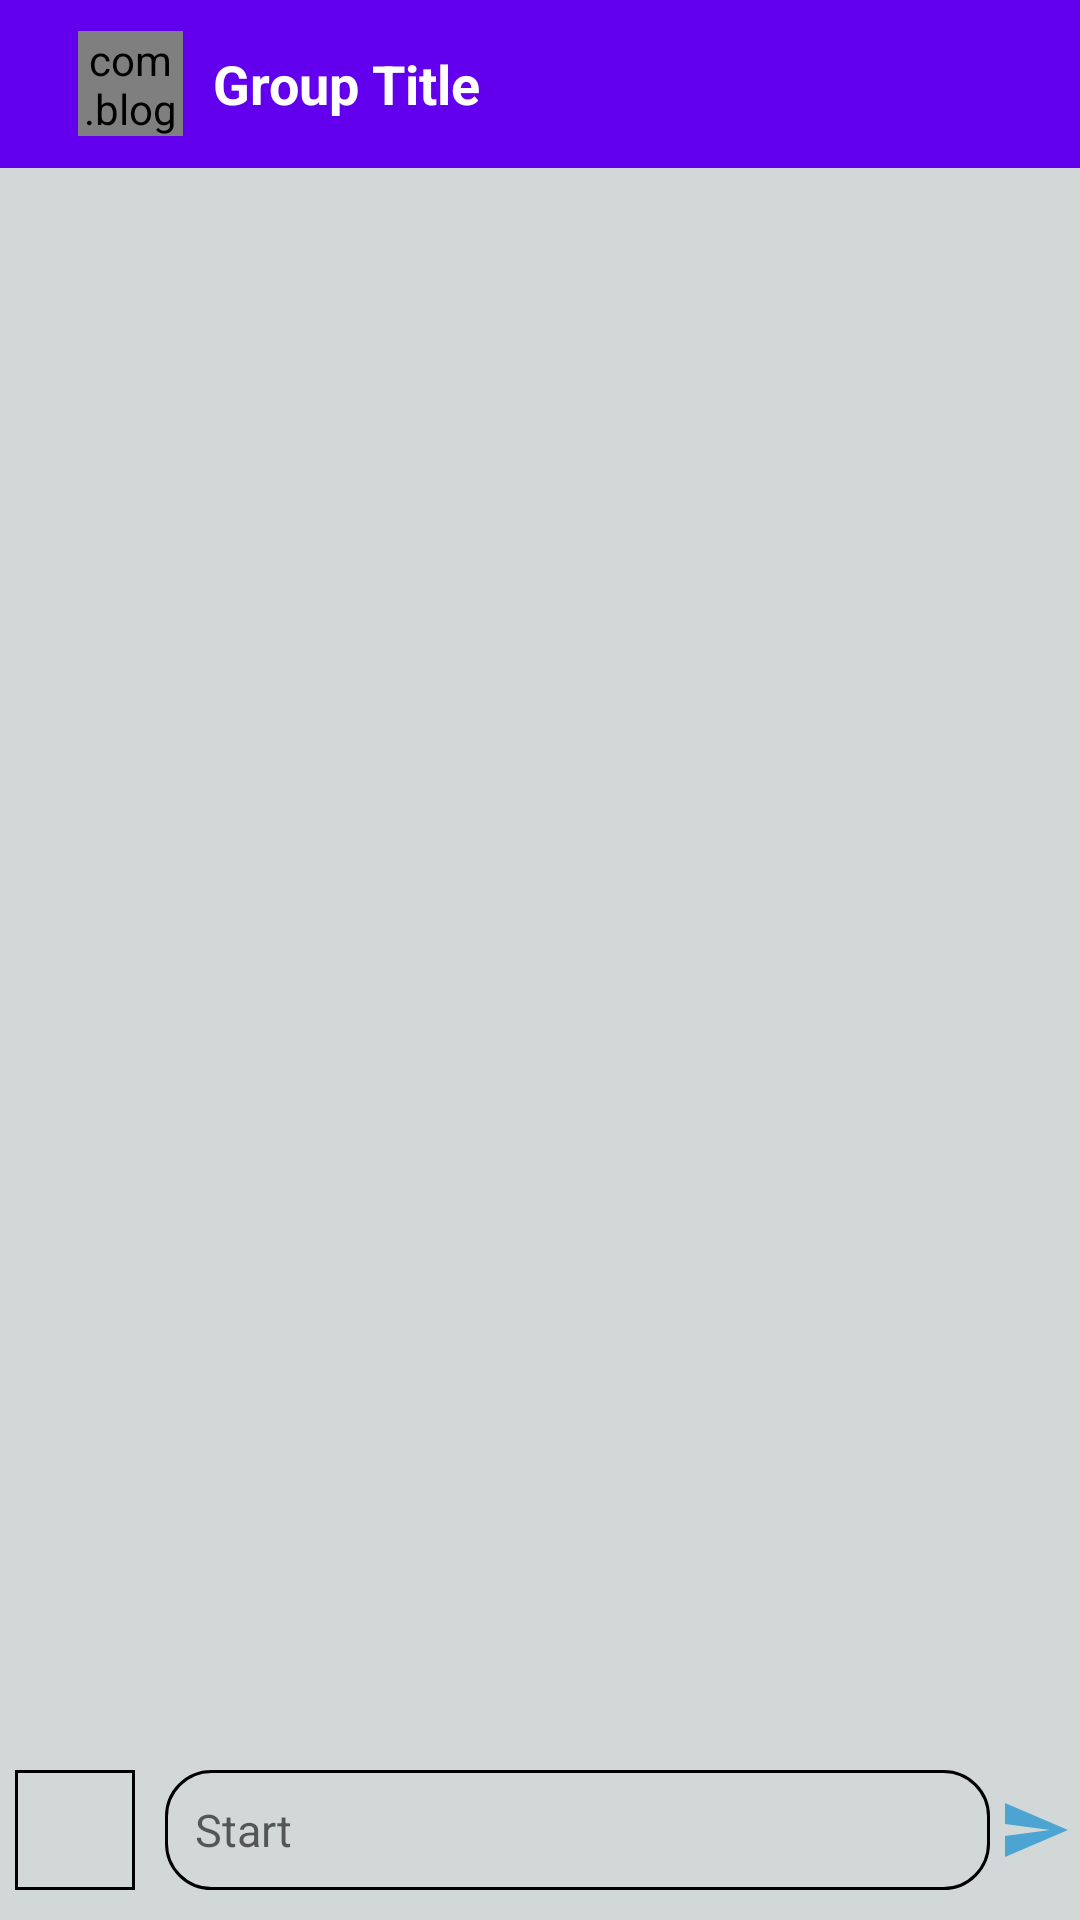

Where icons sit on this 1080×1920 app screen, as (x1, y1, x2, y2):
send: (1005, 1803, 1068, 1857)
